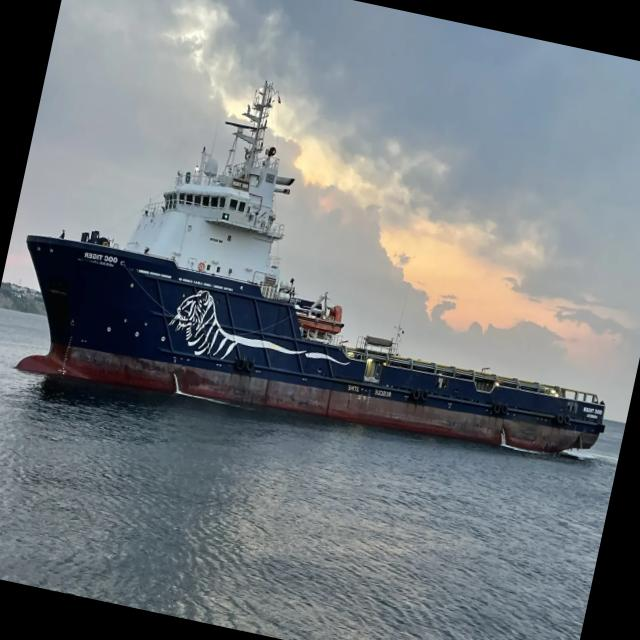Offshore: (15, 85, 605, 452)
